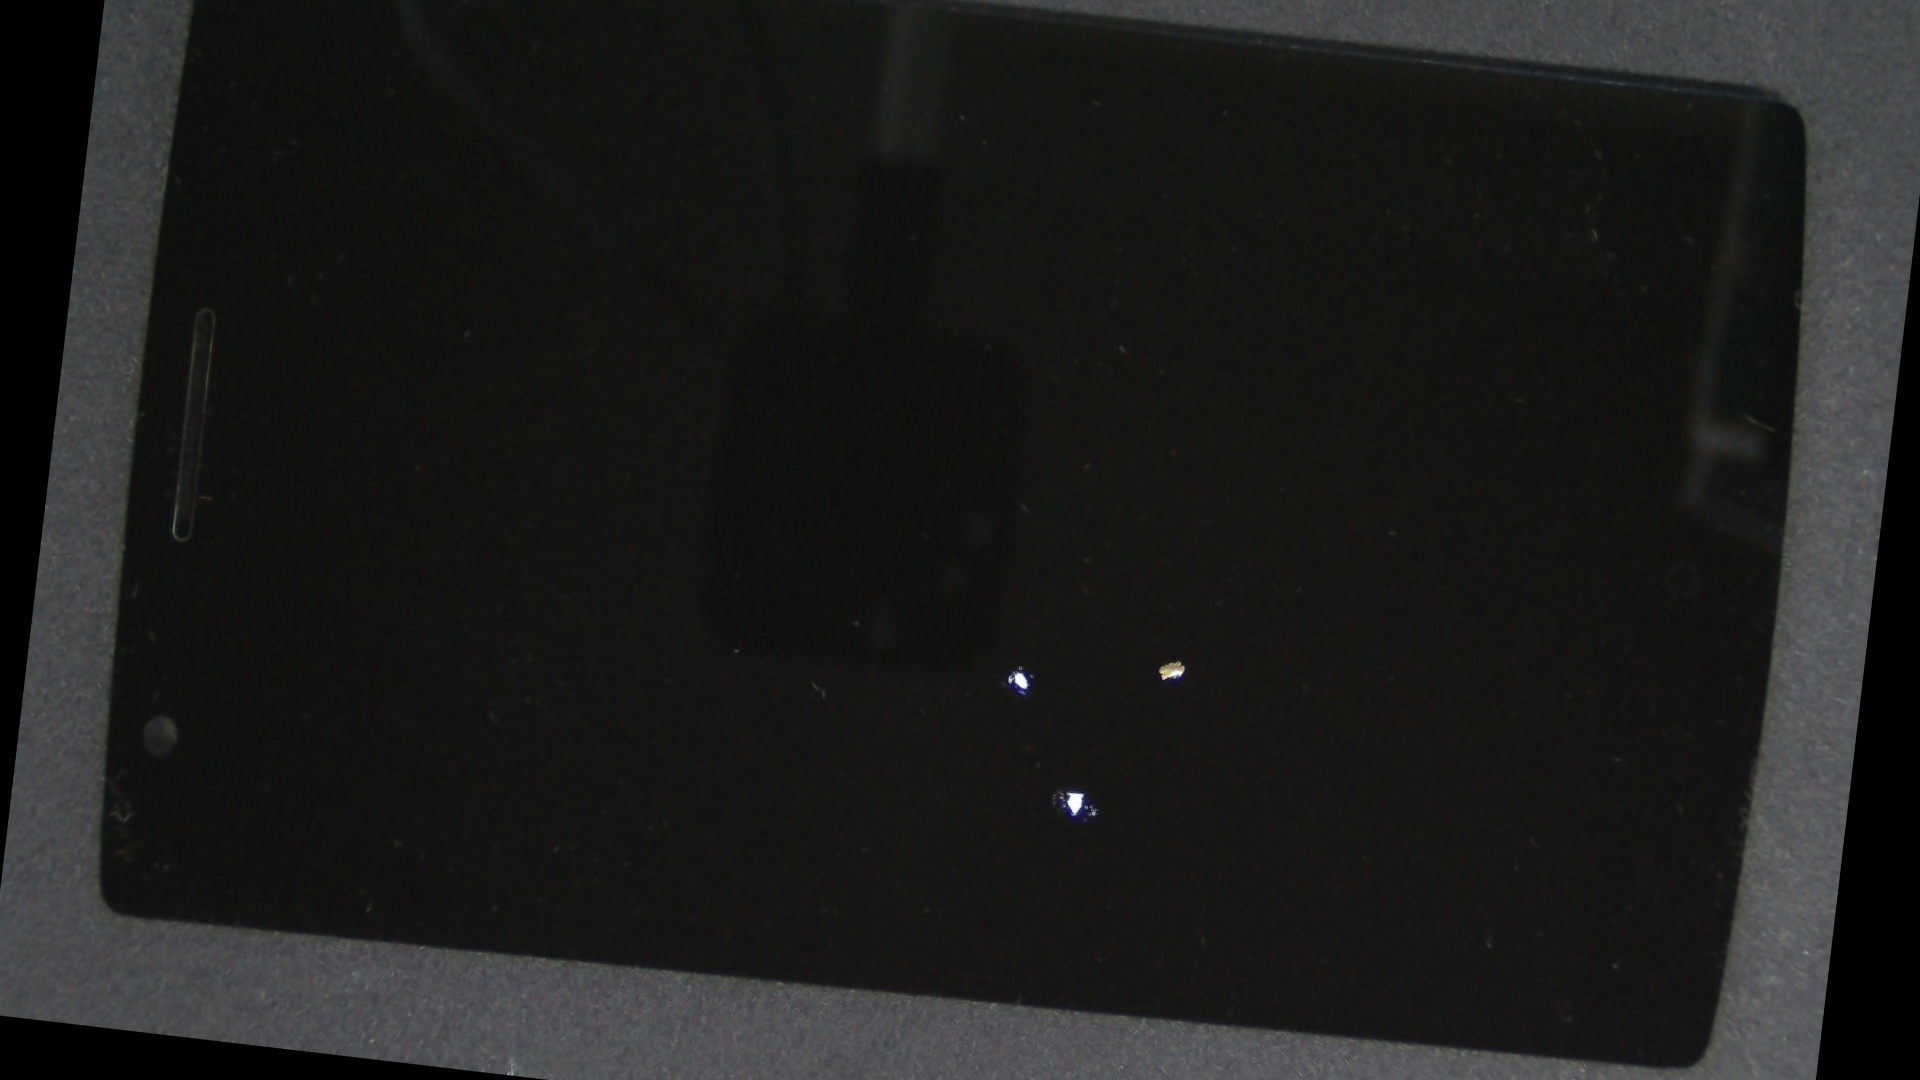oil: (570, 224, 1792, 1080), (487, 225, 1553, 1080), (502, 289, 1627, 1080)
